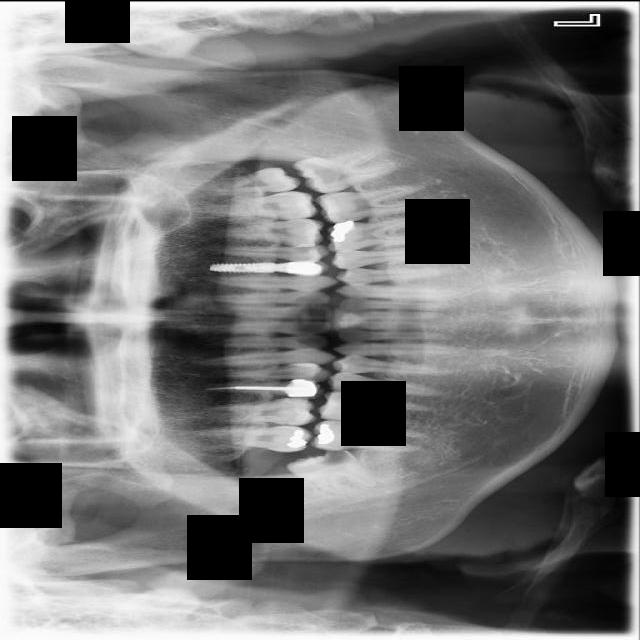52: (323, 217, 371, 254), (310, 417, 354, 452), (266, 424, 314, 453), (278, 379, 326, 399), (289, 256, 331, 277), (304, 449, 350, 465)
73: (200, 377, 276, 393), (529, 78, 542, 88)
BioHorizons Implant: (200, 191, 318, 220)
BioLife Implant: (175, 165, 303, 198)
Biomet 3i Implant: (290, 143, 404, 197)
Blue Sky Bio Implant: (314, 182, 434, 225)
Caries: (189, 422, 318, 455)
Implant: (307, 416, 424, 462)
Keystone Dental Implant: (285, 439, 376, 507)
